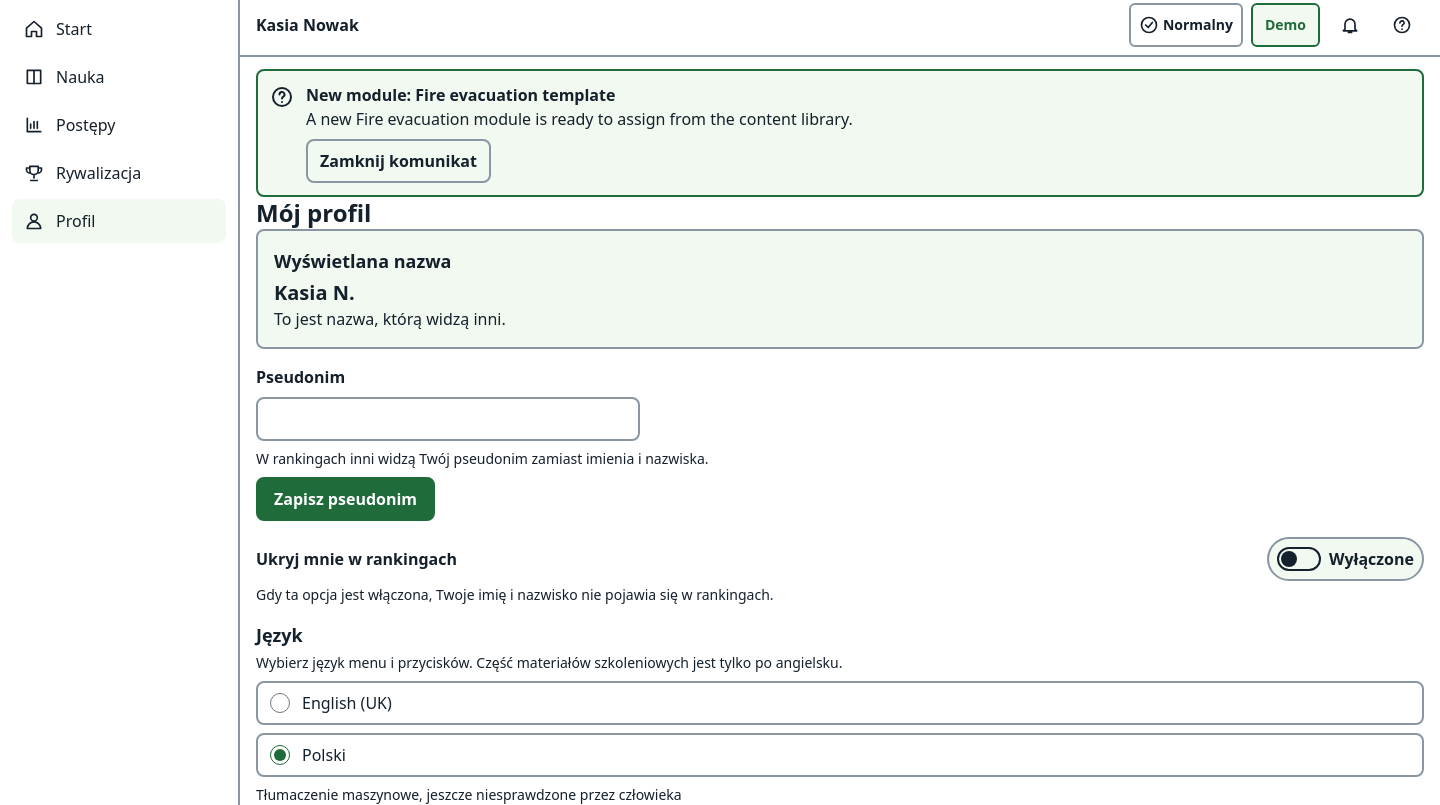
Test: S11 language picker › switching back to English (UK) restores English text and saves en-GB
Expected: the heading "Mój profil" is shown, [256,197,372,229]
Click the radio button labelled "English (UK)".
click(280, 703)  # box [270,693,290,713]
(page scrolled)
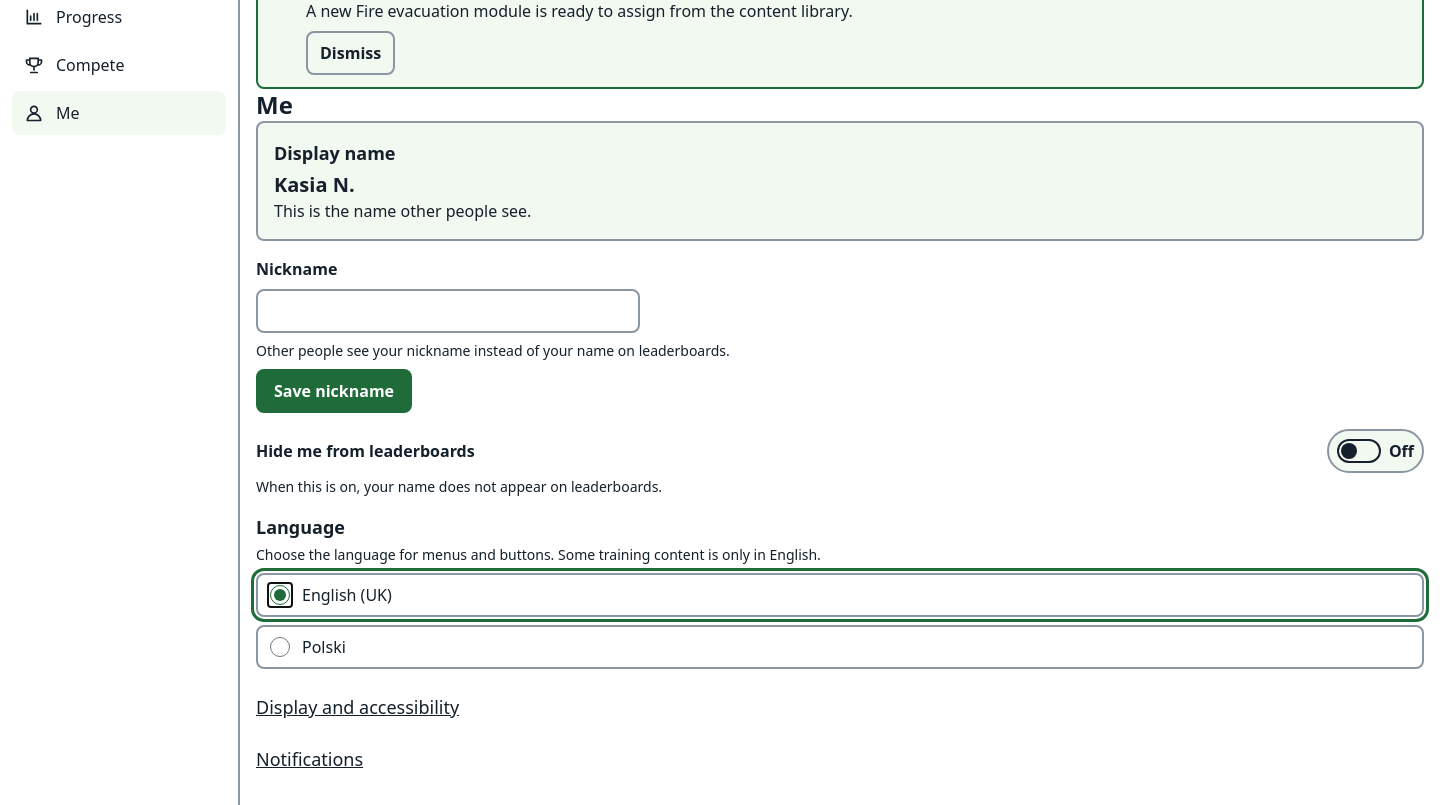
Expected: the heading "Me" is shown, [256,89,293,121]
